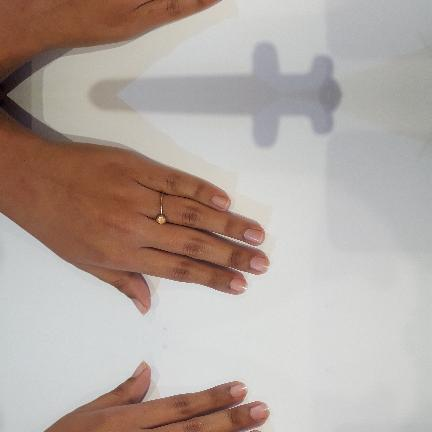Nail: (250, 255, 270, 272), (250, 402, 270, 419), (244, 227, 264, 243), (230, 277, 248, 292), (230, 382, 248, 397), (131, 298, 146, 315), (131, 359, 146, 376), (211, 194, 229, 208), (255, 431, 259, 432)
